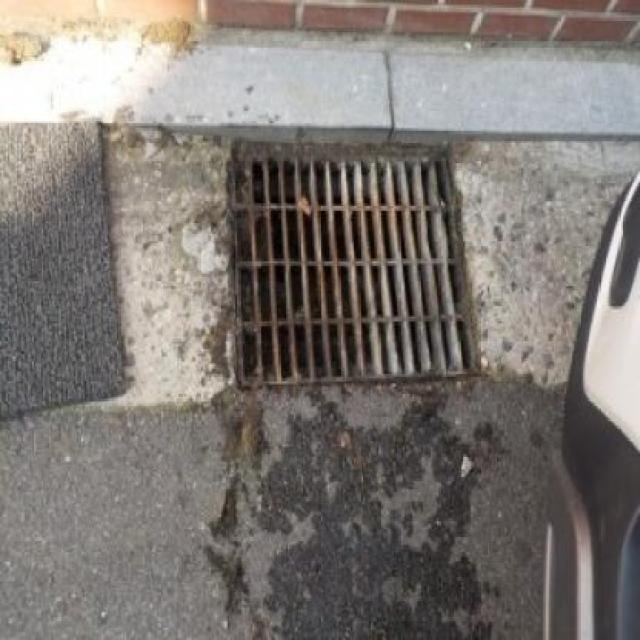Drain Hole: (217, 126, 502, 405)
